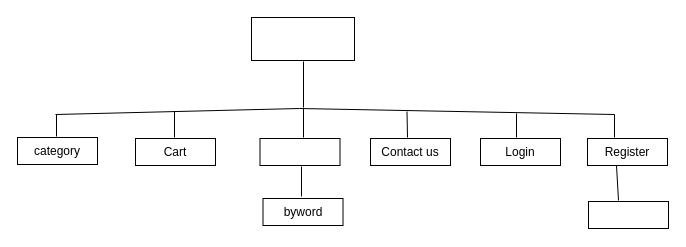
This 686x247 diagram has some shape labels left out. The shapes that lost their labels are listed below. From the top down, each one's centre as x and y in pixels, then its label:
(x=302, y=38): Home
(x=299, y=152): search
(x=628, y=214): Create new account
